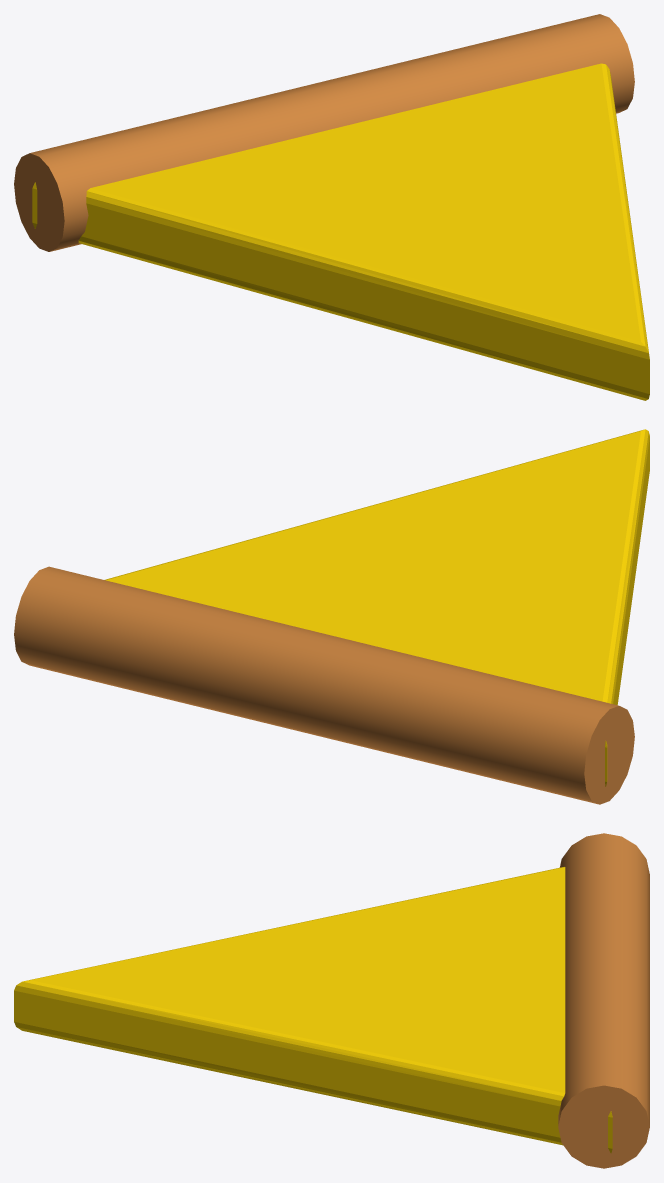
The model's file is pizza_slice.glb.
3 renders of one model, top to bottom at view 1: azimuth 30°, elevation 25°; view 2: azimuth 150°, elevation 25°; view 3: azimuth 270°, elevation 25°, orthographic. The views are drawn at different scales.
Size of the model in its own units: 5.24 by 0.8 by 5.54.
